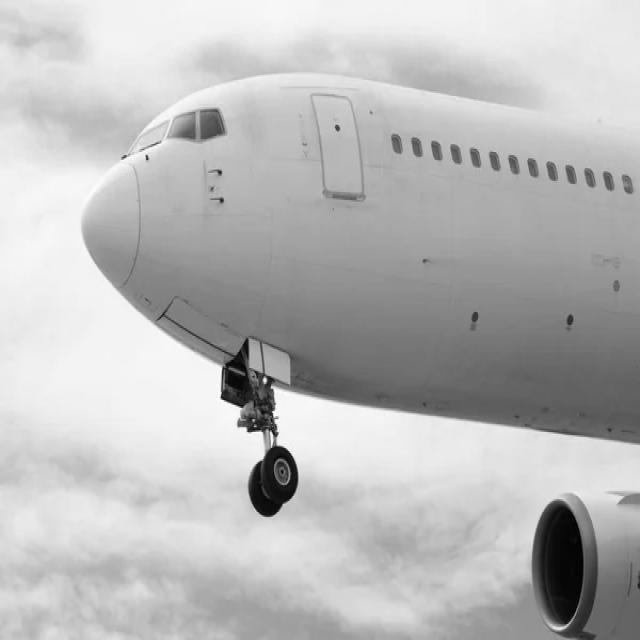Aircraft: (84, 64, 640, 598)
